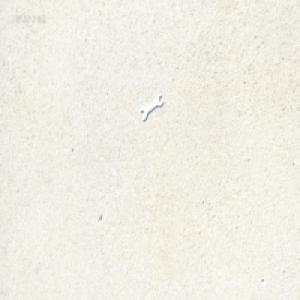Wrench: (139, 91, 162, 120)
